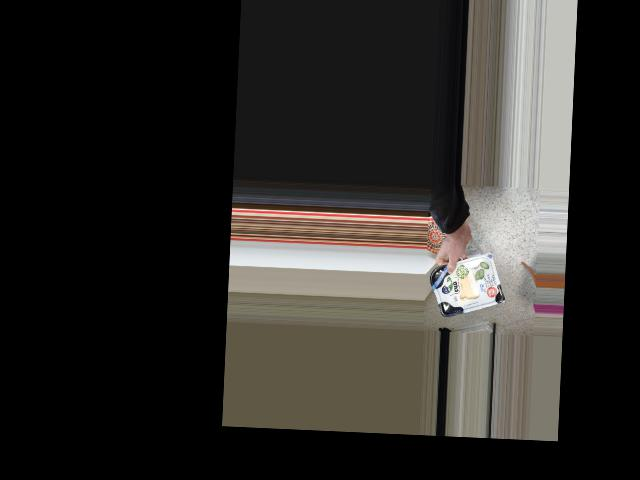cheese: (435, 260, 497, 310)
